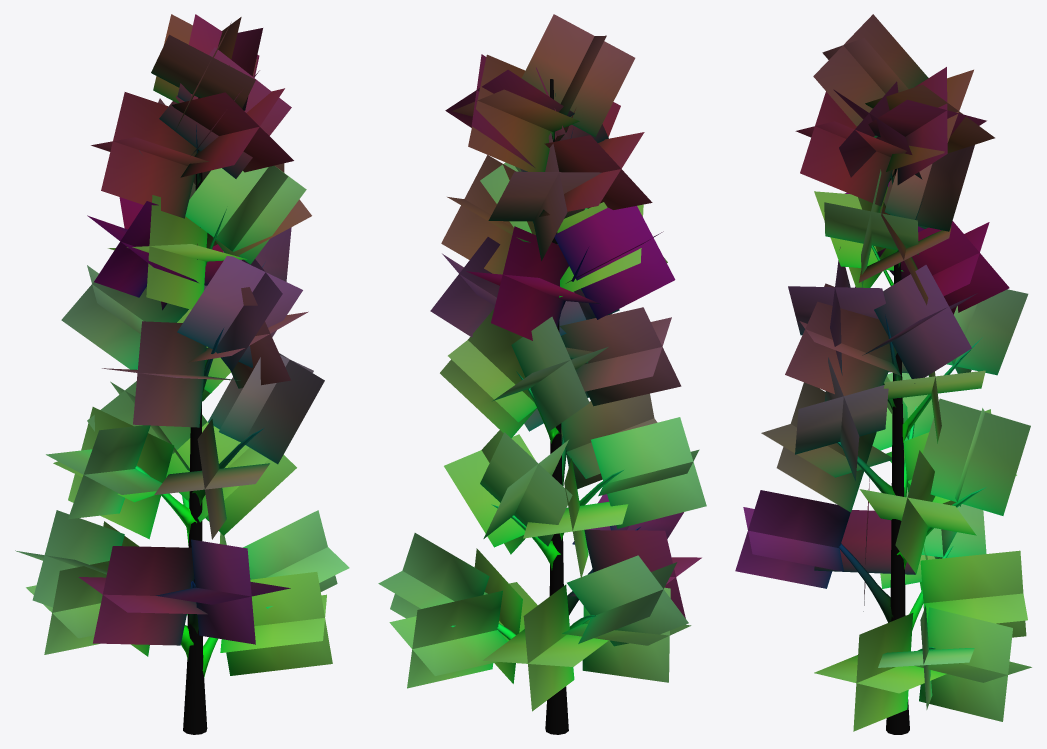
File: URP_P5_Tree_3_LOD_2.fbx
The picture shows the model from 3 angles, left to right: view 1: azimuth 30°, elevation 25°; view 2: azimuth 150°, elevation 25°; view 3: azimuth 270°, elevation 25°; orthographic projection. The views are drawn at different scales.
Visible parts, largest first — view 1: Tree_3_LOD_2; view 2: Tree_3_LOD_2; view 3: Tree_3_LOD_2.
Part boxes in pixels (bbox=[...]): Tree_3_LOD_2: bbox=[15, 14, 349, 734]; Tree_3_LOD_2: bbox=[378, 14, 706, 734]; Tree_3_LOD_2: bbox=[735, 14, 1031, 734].
Bounding box in the file's own units: 298 × 668 × 256.
